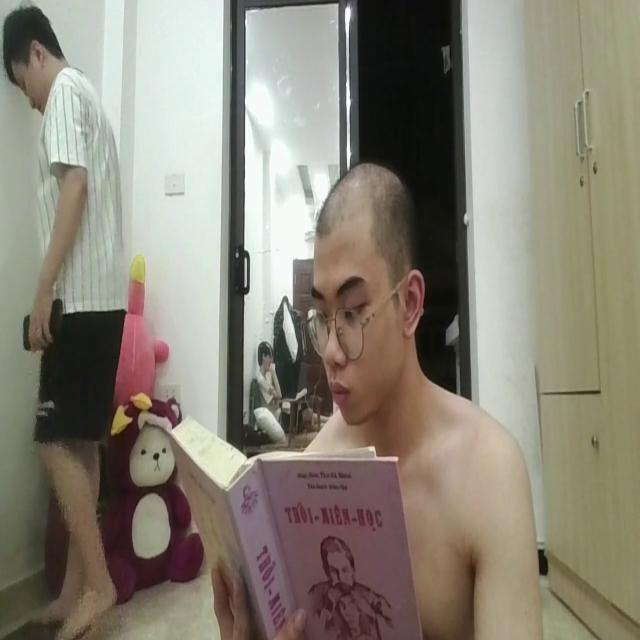book: (166, 402, 426, 640)
extra_person: (1, 9, 132, 640)
student: (306, 144, 542, 640)
